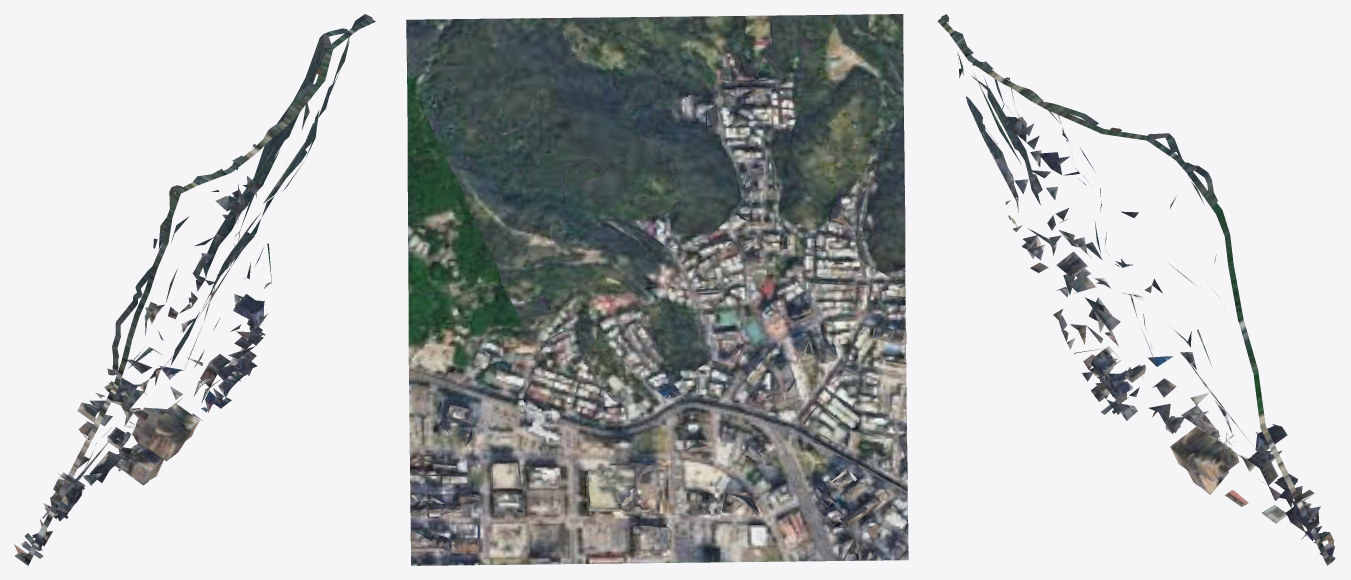
3 renders of one model, left to right at view 1: azimuth 30°, elevation 25°; view 2: azimuth 150°, elevation 25°; view 3: azimuth 270°, elevation 25°, orthographic. The views are drawn at different scales.
Bounding box in the file's own units: 1177 × 1185 × 978.
2 materials, 2 textured.
